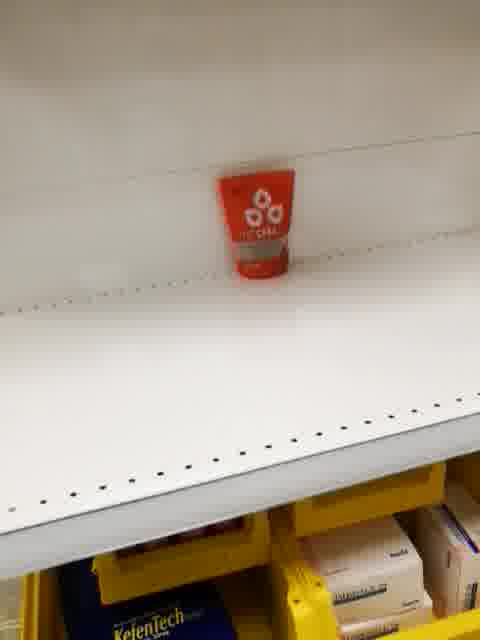whitechia: (214, 163, 298, 282)
